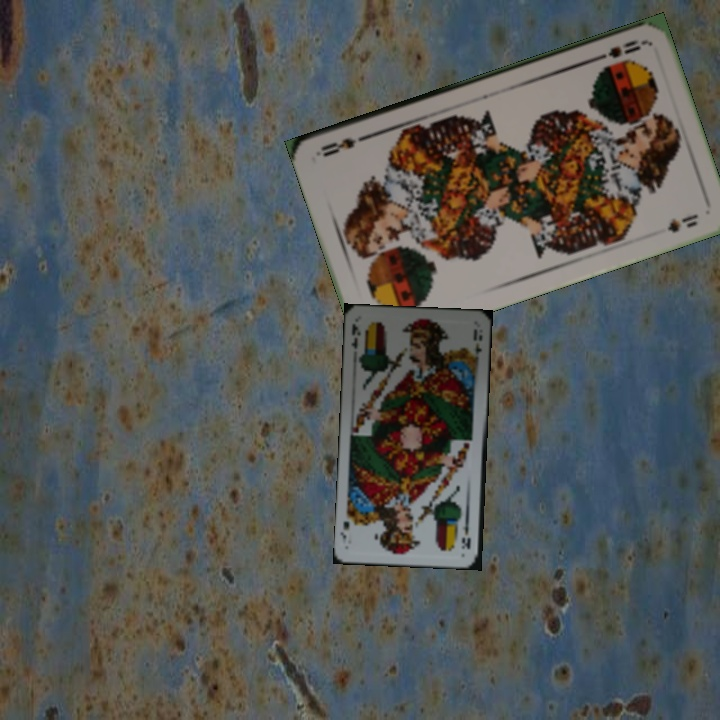EK: (458, 512, 473, 552), (348, 319, 363, 352)
SO: (589, 36, 646, 64)
